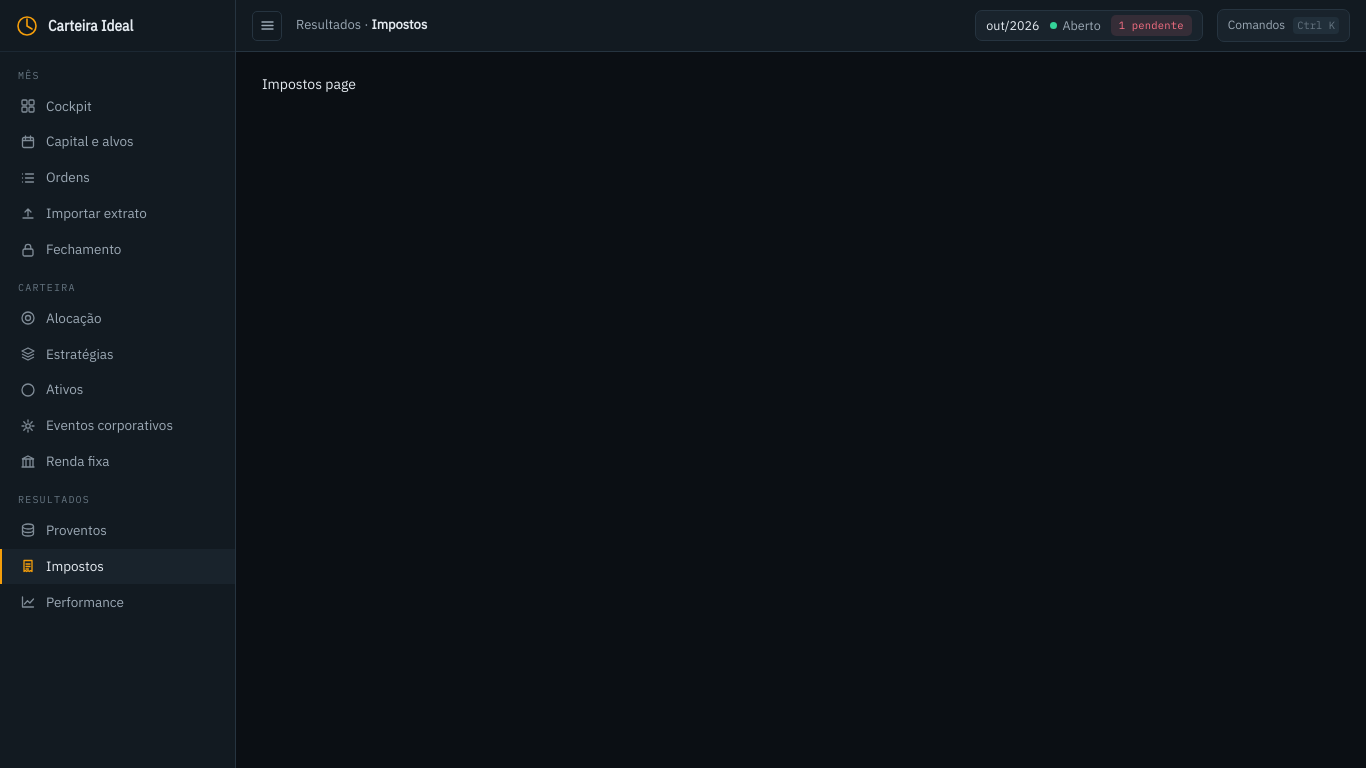
Layout shell › opens the command palette from the topbar button
What coordinates should you click on to do the following:
click the button "Comandos Ctrl K"
I would click on:
 (1283, 26)
Its box is [1217,9,1350,42].
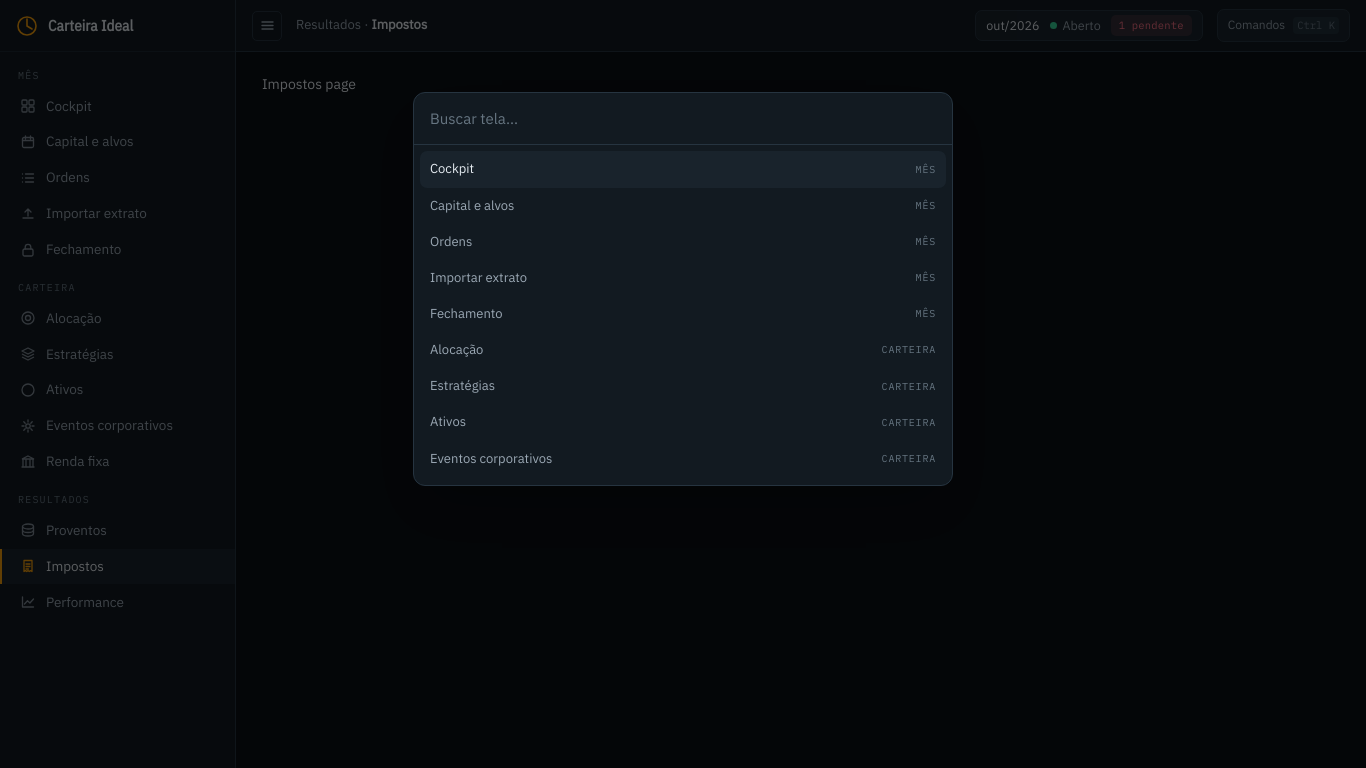
Result: the dialog named "Comandos" is shown at [413,92,953,486]
